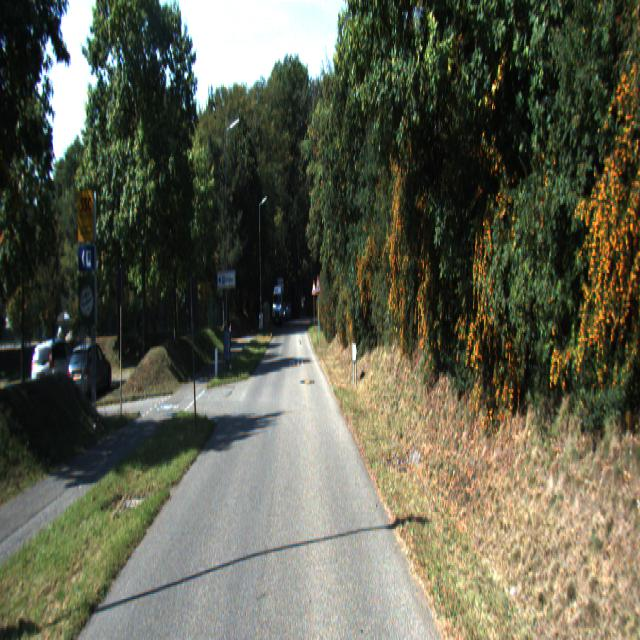Car: (32, 339, 82, 407), (66, 340, 113, 406)
